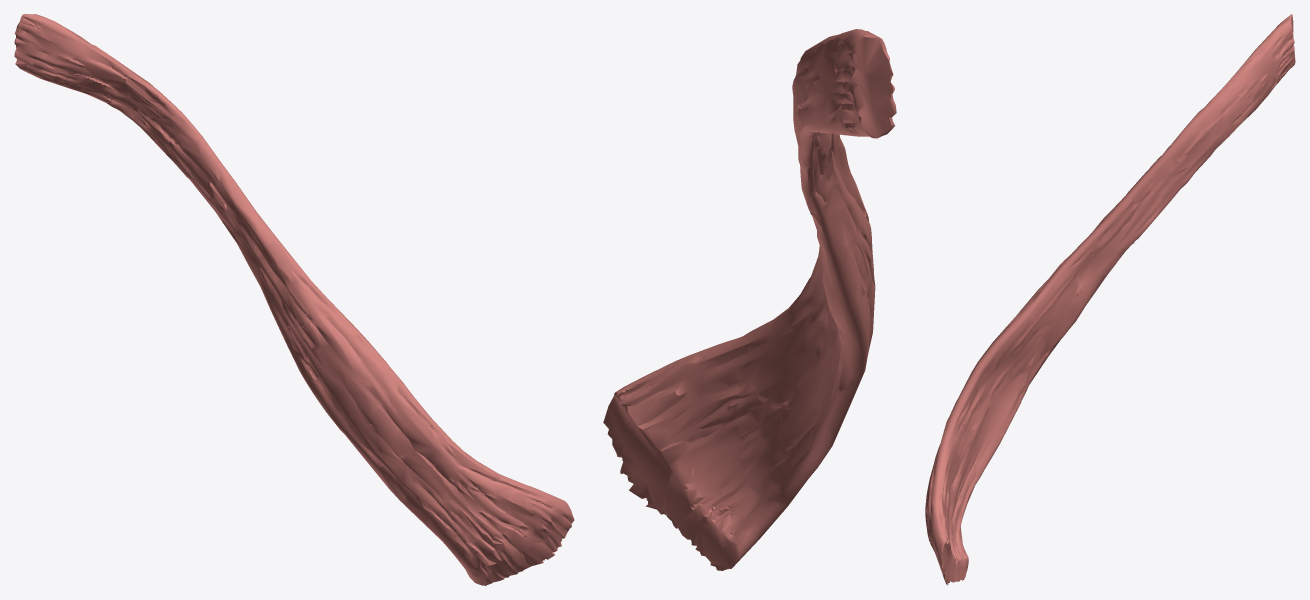
The model's file is fma45874-fj1446.glb.
3 renders of one model, left to right at view 1: azimuth 30°, elevation 25°; view 2: azimuth 150°, elevation 25°; view 3: azimuth 270°, elevation 25°, orthographic. The views are drawn at different scales.
Parts seen in each view (by area): view 1: FMA45874_FJ1446; view 2: FMA45874_FJ1446; view 3: FMA45874_FJ1446.
Part boxes in pixels (x1,y1,x2,y2): FMA45874_FJ1446: (14, 14, 574, 585); FMA45874_FJ1446: (603, 29, 896, 570); FMA45874_FJ1446: (925, 14, 1295, 585).
Bounding box in the file's own units: 0.129 × 0.1712 × 0.1288.
